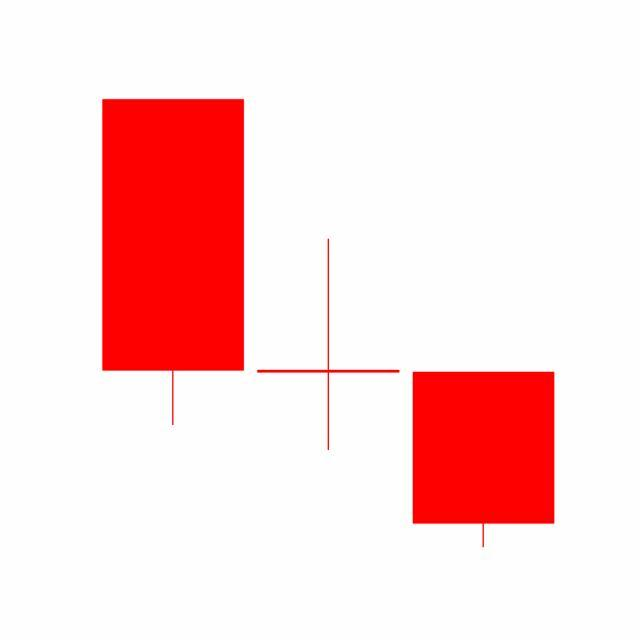Spinning Top: (250, 237, 407, 454)
